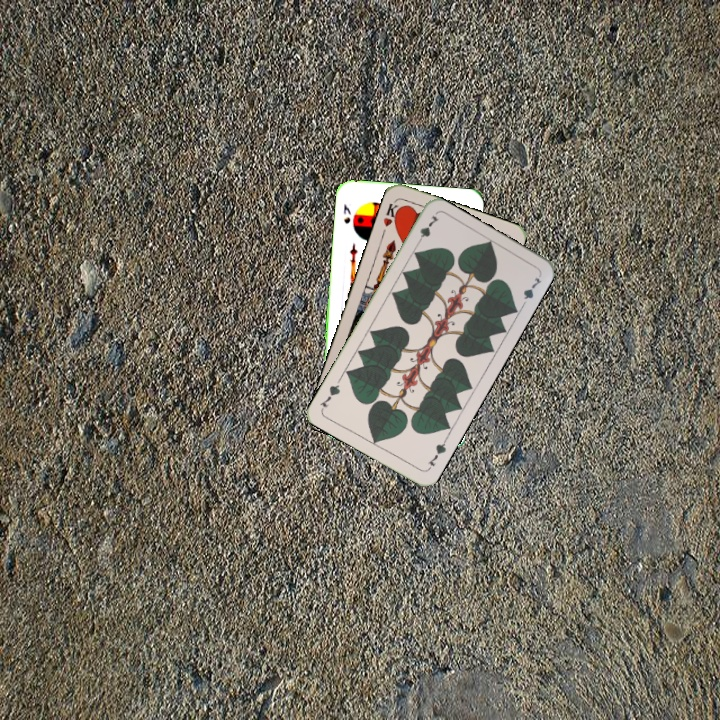G7: (412, 211, 441, 248), (423, 435, 449, 472)
HK: (379, 197, 404, 229)
SK: (339, 200, 353, 226)
